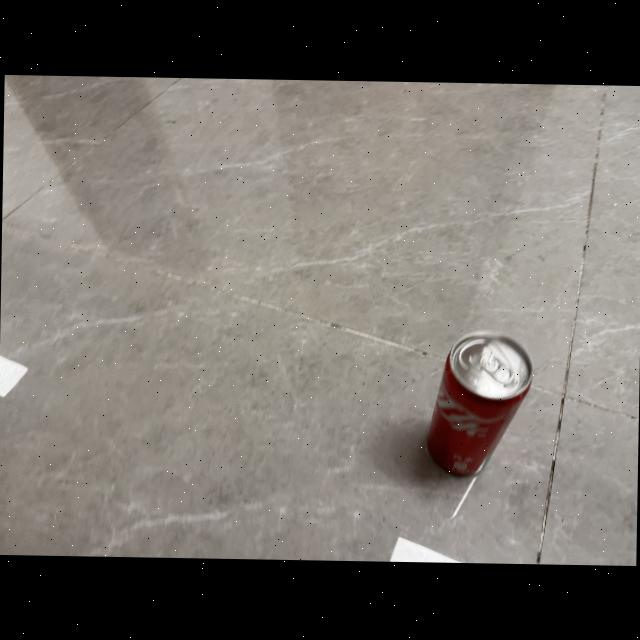Cola: (422, 325, 540, 483)
